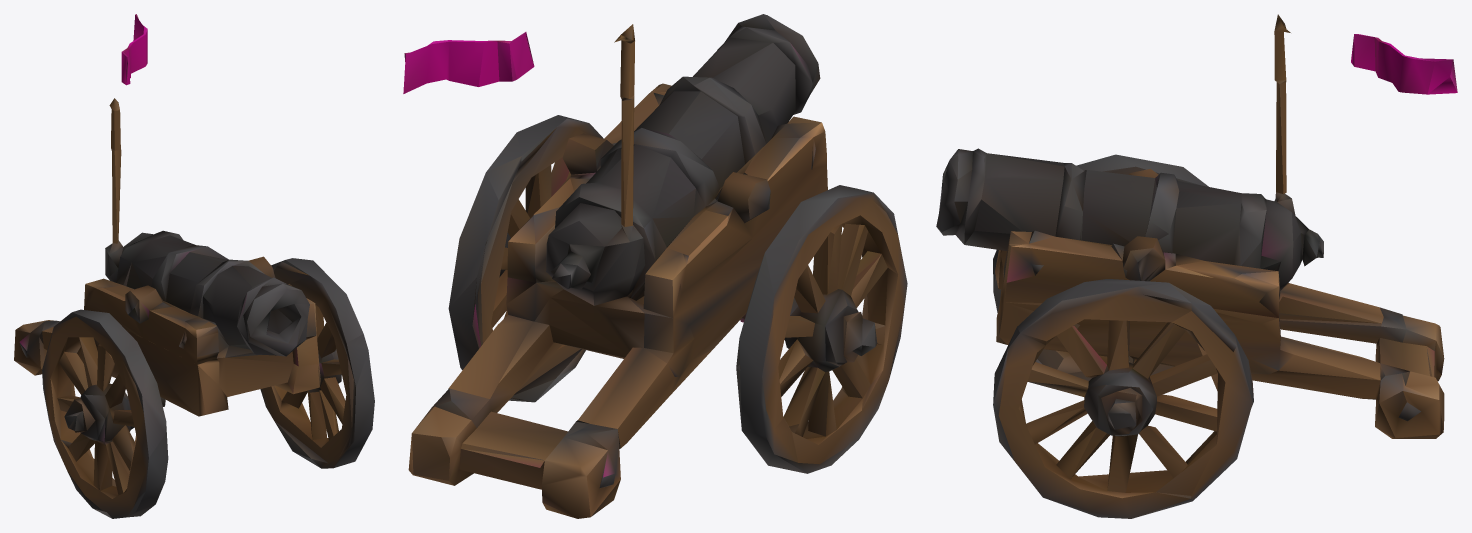
Rendered from cannon.lod2.glb.
3 views of the same model, side by side, from view 1: azimuth 30°, elevation 25°; view 2: azimuth 150°, elevation 25°; view 3: azimuth 270°, elevation 25° (orthographic). The views are drawn at different scales.
Visible parts, largest first — view 1: Mesh_0; view 2: Mesh_0; view 3: Mesh_0.
Boxes of the visible parts, x1,y1,x2,y2 form: Mesh_0: (14,14,374,518); Mesh_0: (403,14,907,518); Mesh_0: (936,14,1457,518).
Size of the model in its own units: 1.43 by 1.71 by 1.87.
